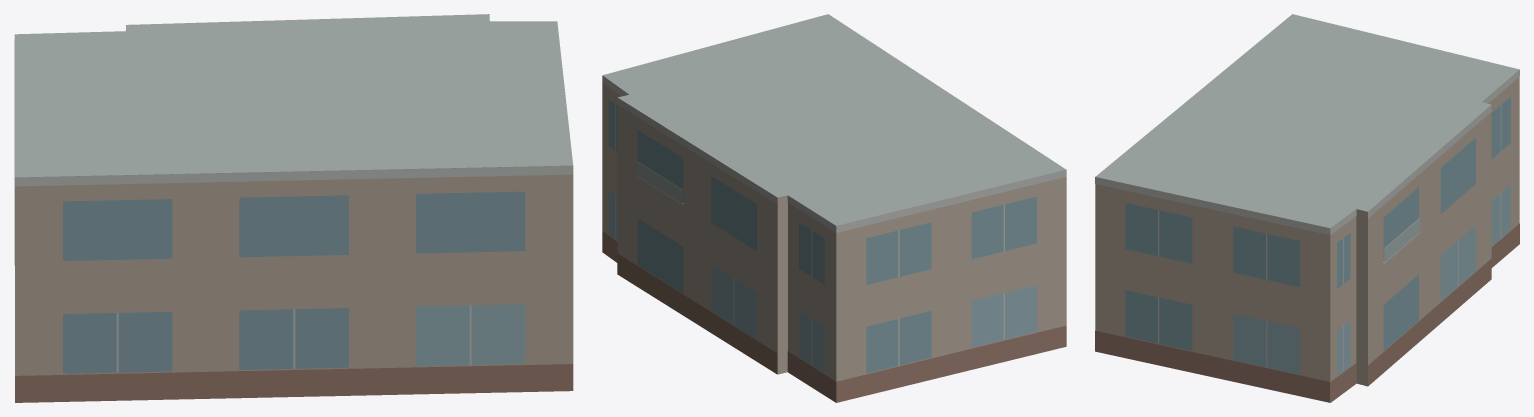
Rendered from survey-upis-32922029.glb.
The picture shows the model from 3 angles, left to right: view 1: azimuth 30°, elevation 25°; view 2: azimuth 150°, elevation 25°; view 3: azimuth 270°, elevation 25°; orthographic projection. The views are drawn at different scales.
Parts seen in each view (by area): view 1: survey-upis-32922029.tmp; view 2: survey-upis-32922029.tmp; view 3: survey-upis-32922029.tmp.
Part boxes in pixels (box(x1,y1,x2,y2)): survey-upis-32922029.tmp: box(14, 14, 573, 402); survey-upis-32922029.tmp: box(602, 14, 1066, 402); survey-upis-32922029.tmp: box(1095, 14, 1519, 402).
Size of the model in its own units: 16.06 by 6.1 by 13.46.
